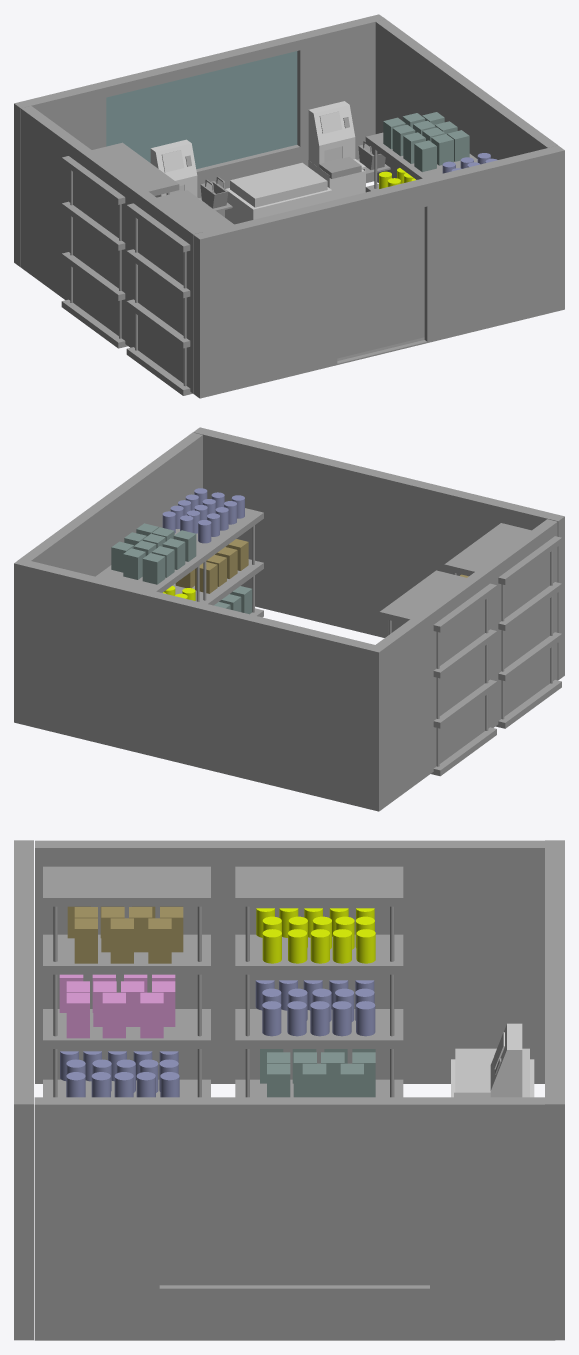
The model's file is store.fbx.
3 views of the same model, one above another, from view 1: azimuth 30°, elevation 25°; view 2: azimuth 150°, elevation 25°; view 3: azimuth 270°, elevation 25° (orthographic). The views are drawn at different scales.
Visible parts, largest first — view 1: wall1, wall, wall_2, wall_3, shelf_top (×2), screen (×2), machine_desk_top, shelf, shelf_mid_1 (×2), check_out_machine_desk, shelf_bottom (×2), machine (+6 smaller); view 2: wall, wall1, wall_2, wall_3, shelf_top (×2), shelf_mid_1 (×3), shelf, shelf_mid_2 (×2), shelf_bottom (×2), pCube4 (×2), pCube5; view 3: wall_3, wall_2, shelf_top (×2), wall1, shelf, wall, shelf_mid_1, shelf_mid_2, pCube10 (×3), pCube12 (×3), pCube9 (×3), pCube6 (×3) (+12 smaller).
Part boxes in pixels (x1=…): wall1: x1=193, y1=145, x2=564, y2=398; wall: x1=14, y1=14, x2=385, y2=267; wall_2: x1=21, y1=106, x2=202, y2=393; wall_3: x1=375, y1=17, x2=557, y2=182; shelf_top (×2): x1=61, y1=142, x2=233, y2=252; screen (×2): x1=150, y1=101, x2=355, y2=197; machine_desk_top: x1=230, y1=162, x2=327, y2=207; shelf: x1=61, y1=170, x2=169, y2=338; shelf_mid_1 (×2): x1=126, y1=132, x2=477, y2=298; check_out_machine_desk: x1=225, y1=187, x2=332, y2=224; shelf_bottom (×2): x1=61, y1=299, x2=192, y2=395; machine: x1=308, y1=159, x2=365, y2=200; wall: x1=14, y1=558, x2=385, y2=811; wall1: x1=193, y1=427, x2=564, y2=680; wall_2: x1=376, y1=519, x2=557, y2=806; wall_3: x1=20, y1=432, x2=202, y2=576; shelf_top (×2): x1=379, y1=523, x2=561, y2=632; shelf_mid_1 (×3): x1=96, y1=508, x2=561, y2=630; shelf: x1=388, y1=598, x2=496, y2=766; shelf_mid_2 (×2): x1=172, y1=559, x2=561, y2=680; shelf_bottom (×2): x1=431, y1=680, x2=561, y2=776; pCube4 (×2): x1=142, y1=553, x2=217, y2=593; pCube5: x1=123, y1=548, x2=145, y2=579; wall_3: x1=34, y1=1097, x2=555, y2=1340; wall_2: x1=35, y1=840, x2=544, y2=1083; shelf_top (×2): x1=43, y1=866, x2=403, y2=906; wall1: x1=14, y1=840, x2=33, y2=1340; shelf: x1=235, y1=906, x2=403, y2=1097; wall: x1=545, y1=840, x2=564, y2=1340; shelf_mid_1: x1=43, y1=934, x2=210, y2=974; shelf_mid_2: x1=43, y1=1009, x2=210, y2=1048; pCube10 (×3): x1=102, y1=918, x2=326, y2=1097; pCube12 (×3): x1=140, y1=918, x2=363, y2=1097; pCube9 (×3): x1=66, y1=918, x2=290, y2=1097; pCube6 (×3): x1=121, y1=907, x2=344, y2=1097.
Size of the model in its own units: 6.12 by 2.55 by 5.29.
